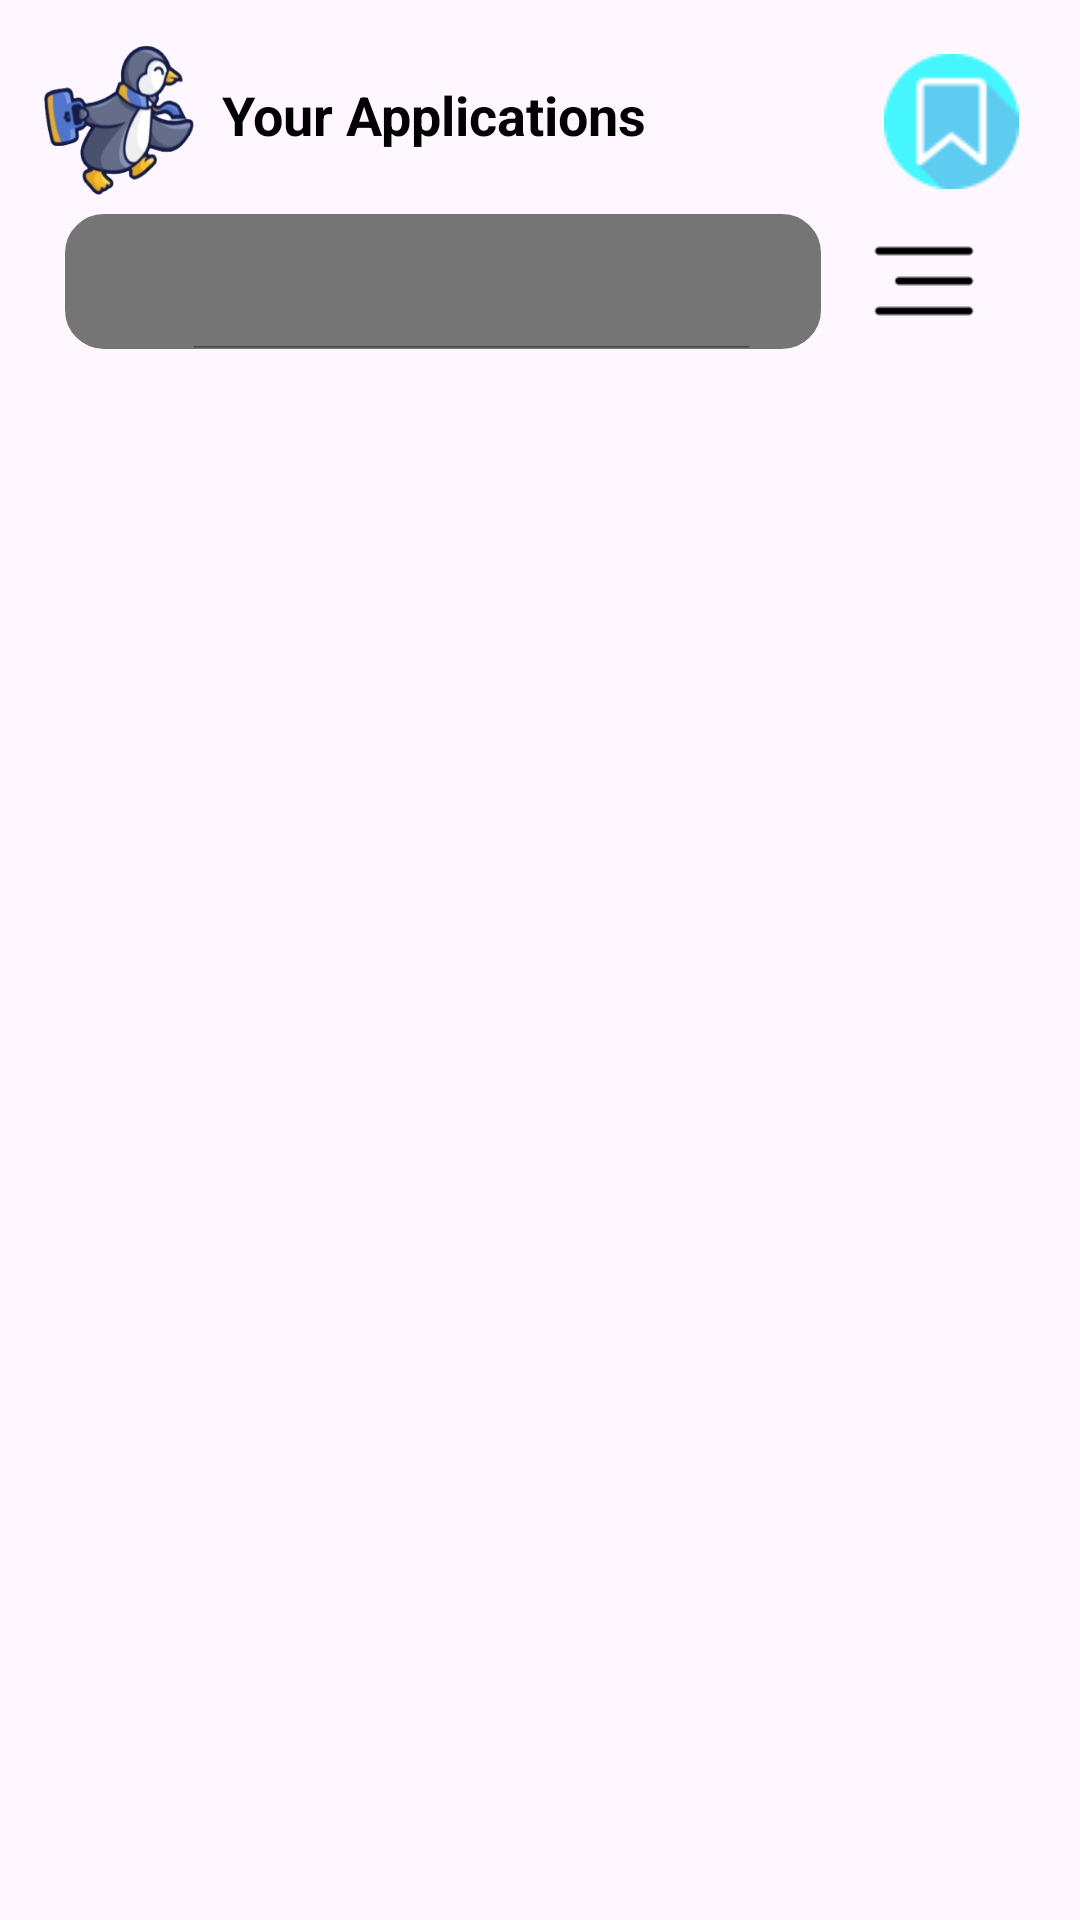

Where icons sit on this 1080px x 1920px app screen, as bbox=(x1, y1, x2, y2):
penguin: bbox=(44, 45, 194, 195)
